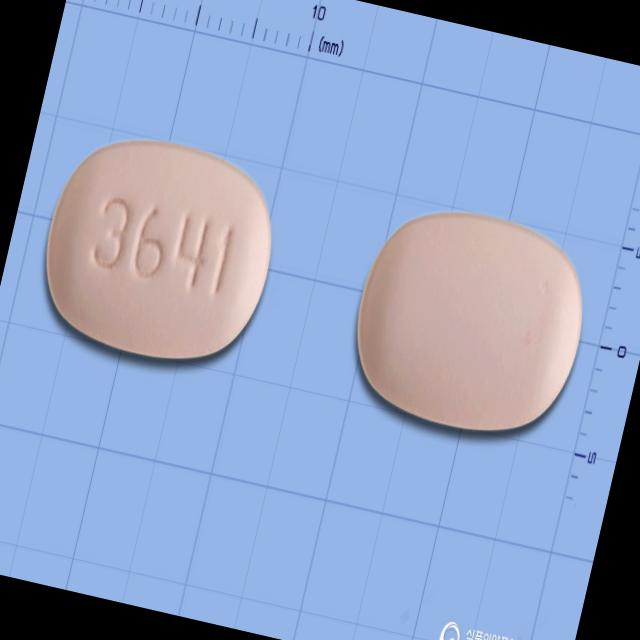Evotaz: (25, 120, 292, 380)
